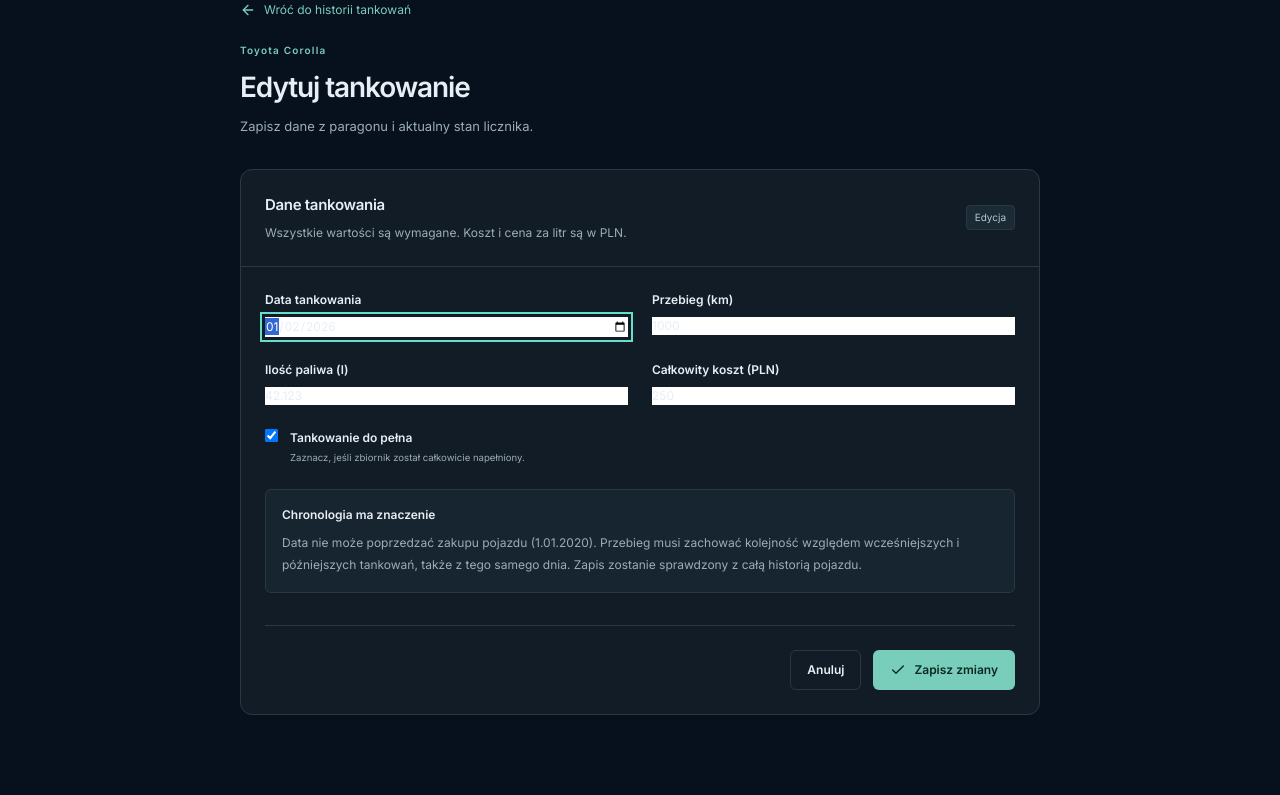
Scenario: fuel history and CRUD › disables submit while a save is pending
The image size is (1280, 795).
expect the date field labelled "Data tankowania" is shown: met, box [265,317,628,337]
Click the button "Zapisz zmiany" at (944, 670), box [873,650,1015,690]
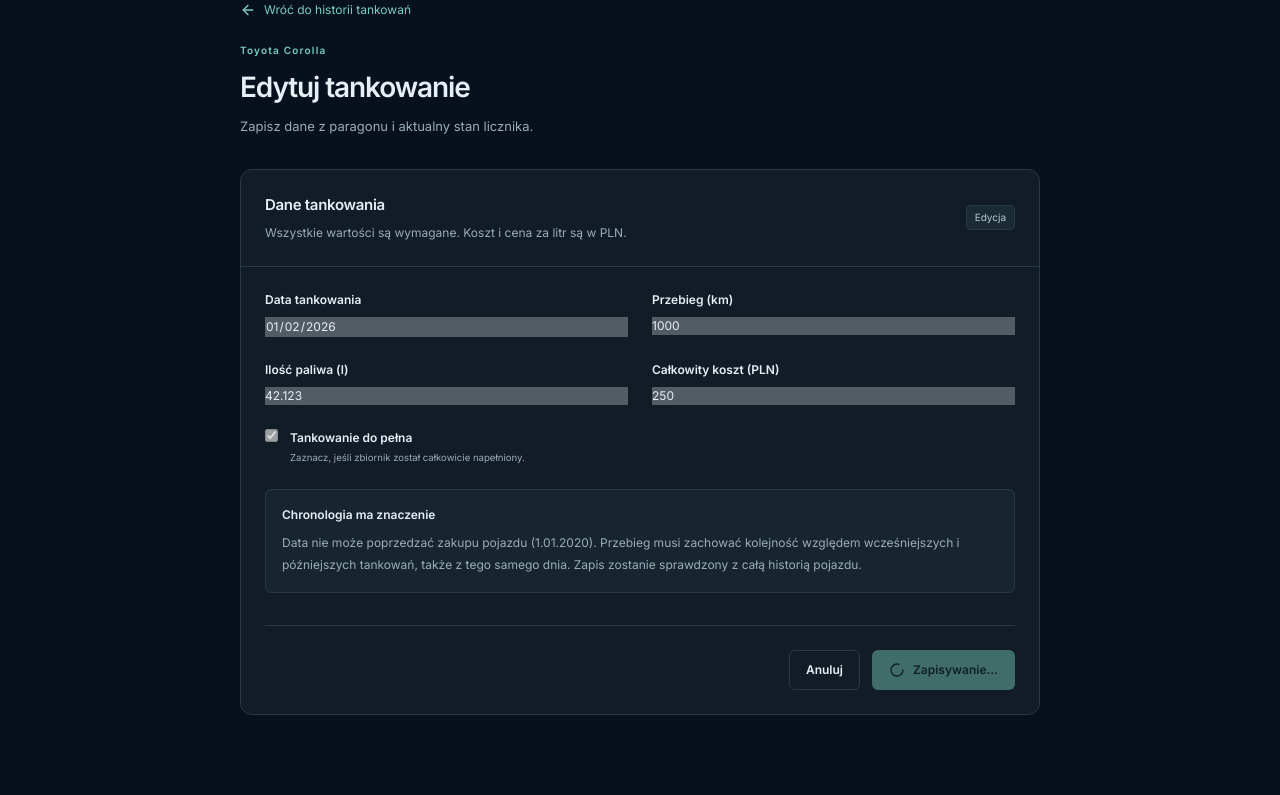
expect the button "Zapisywanie…" is disabled: met
Click the button "Zapisywanie…" at (944, 670), box [872,650,1015,690]
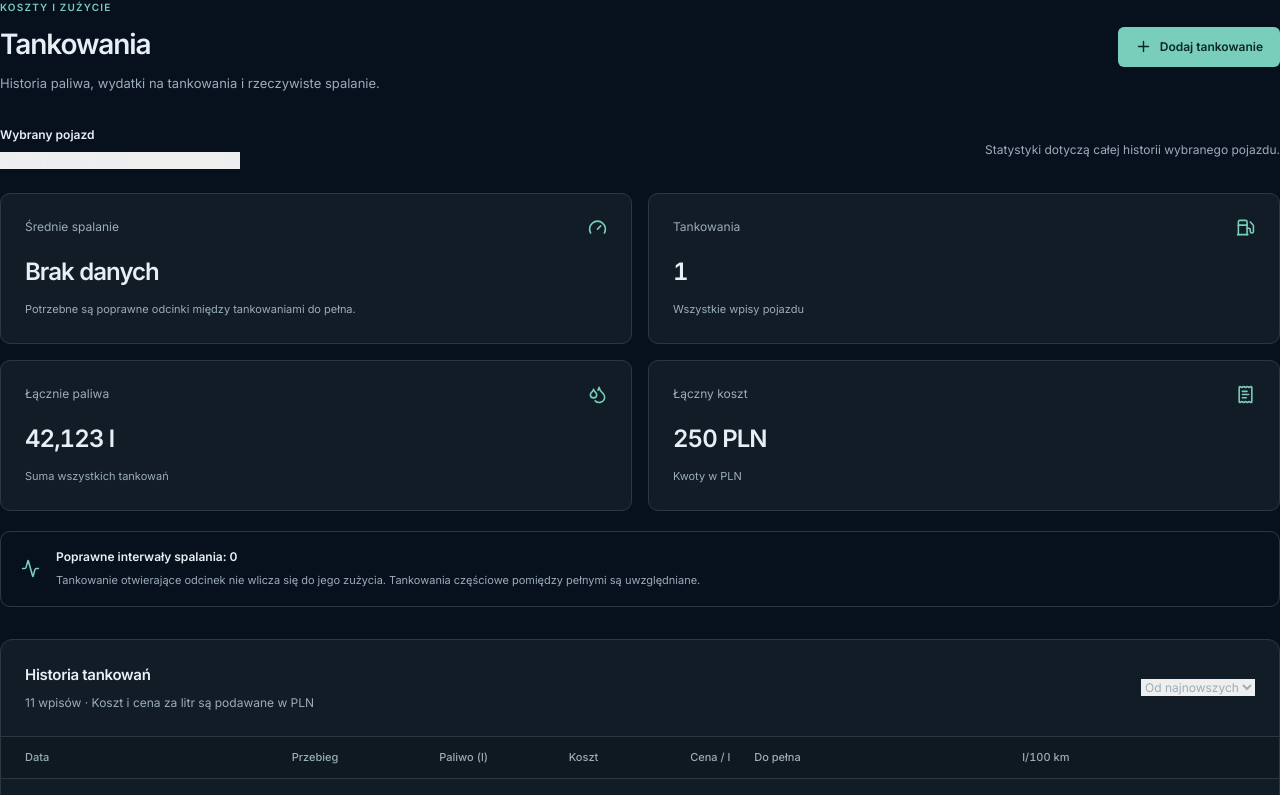
expect the heading "Historia tankowań" is shown: met, box [25,664,150,684]
